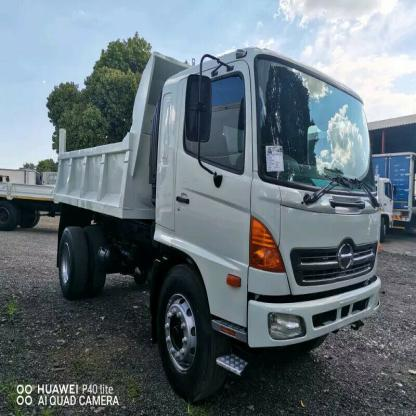dump_truck: (47, 32, 385, 392)
